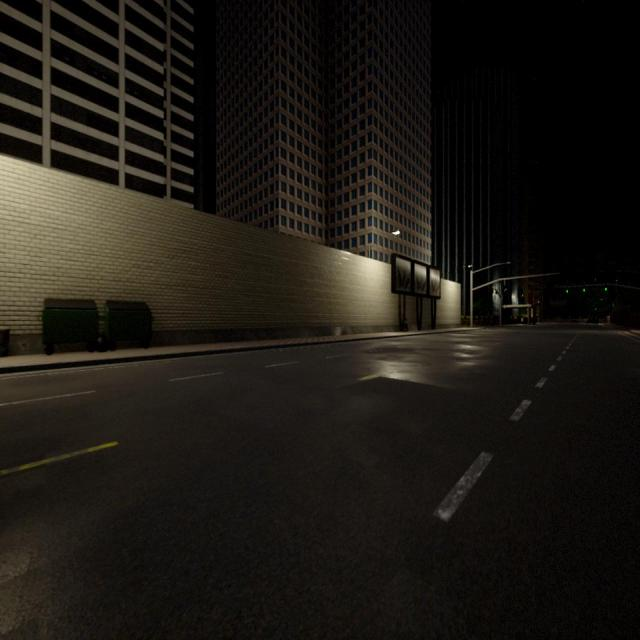Pedestrian: (403, 317, 409, 332)
traffic_light: (566, 286, 568, 294), (583, 285, 585, 293), (605, 284, 607, 291)
